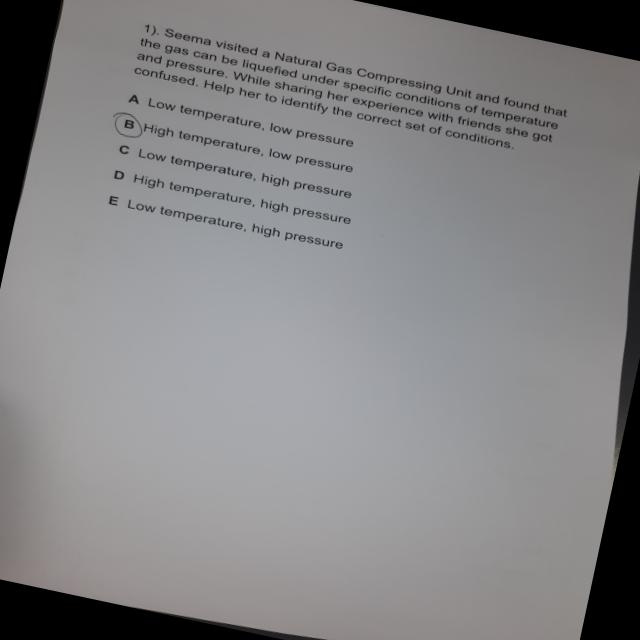B: (107, 109, 153, 146)
